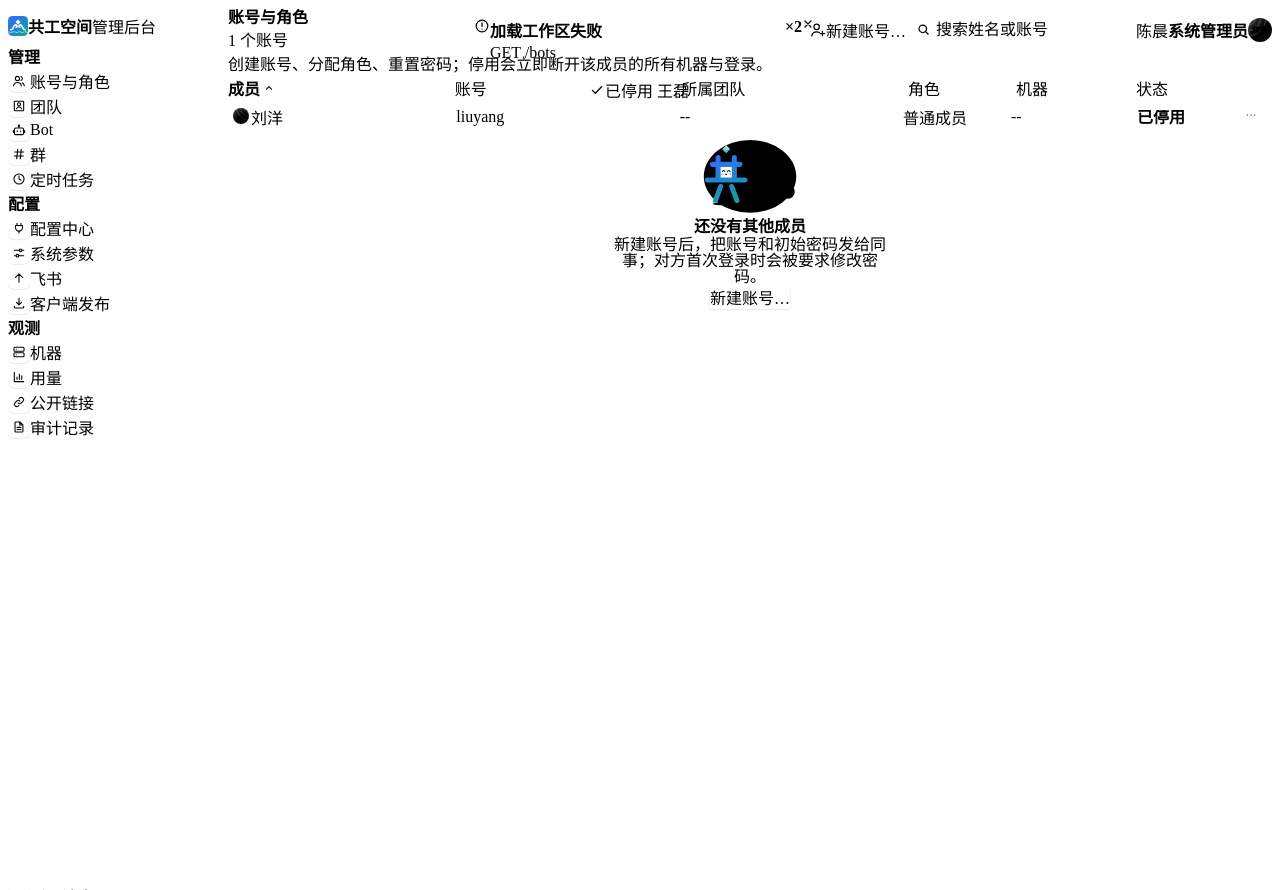
Test: 账号与角色 · 停用 / 启用 › closing the dialog changes nothing; 启用 re-enables at once
This screenshot has width=1280, height=890.
expect the cell "liuyang" is shown: met, box [456,108,504,125]
Click the button named "操作": (1251, 115) [1244,108,1258,122]
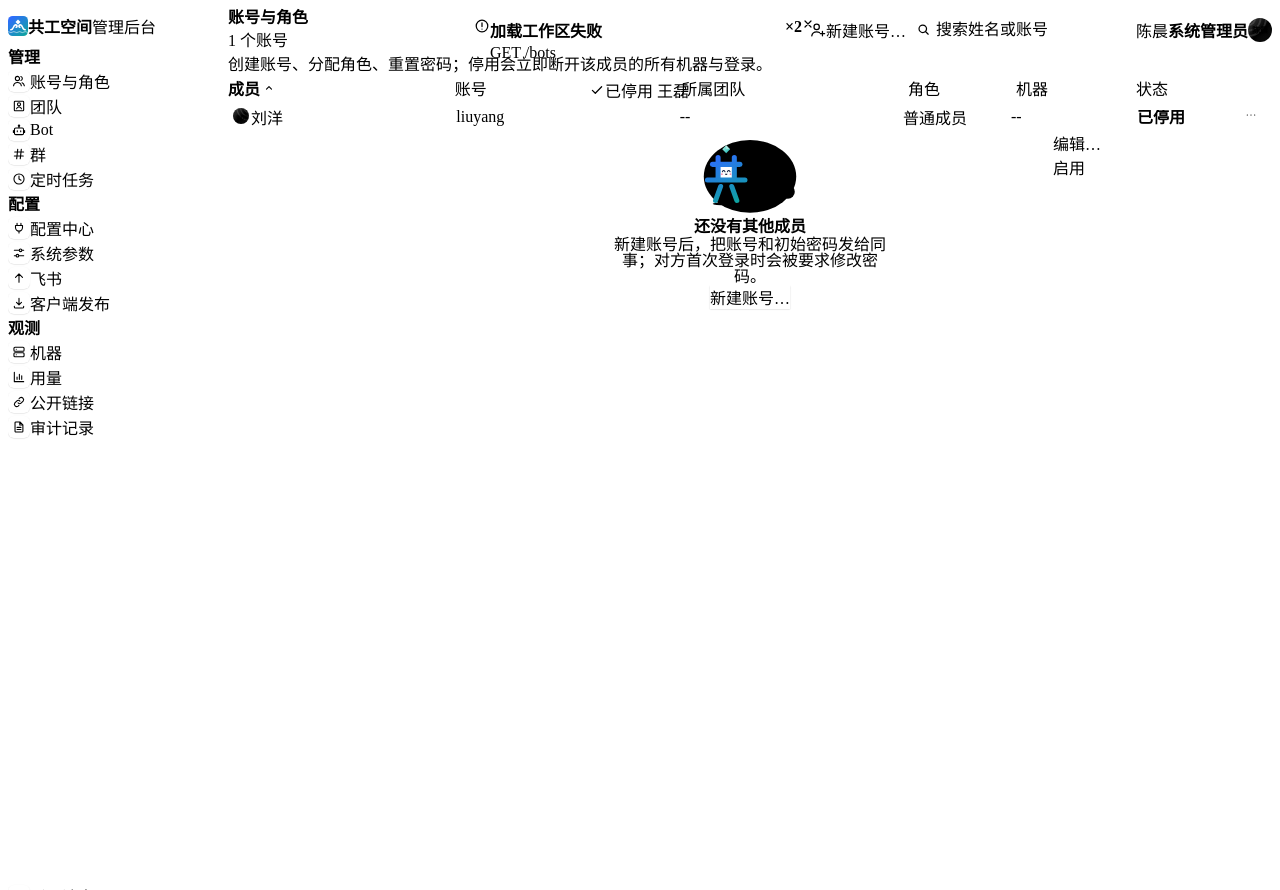
Click the menu item "启用": (1153, 167) [1053,155,1253,179]
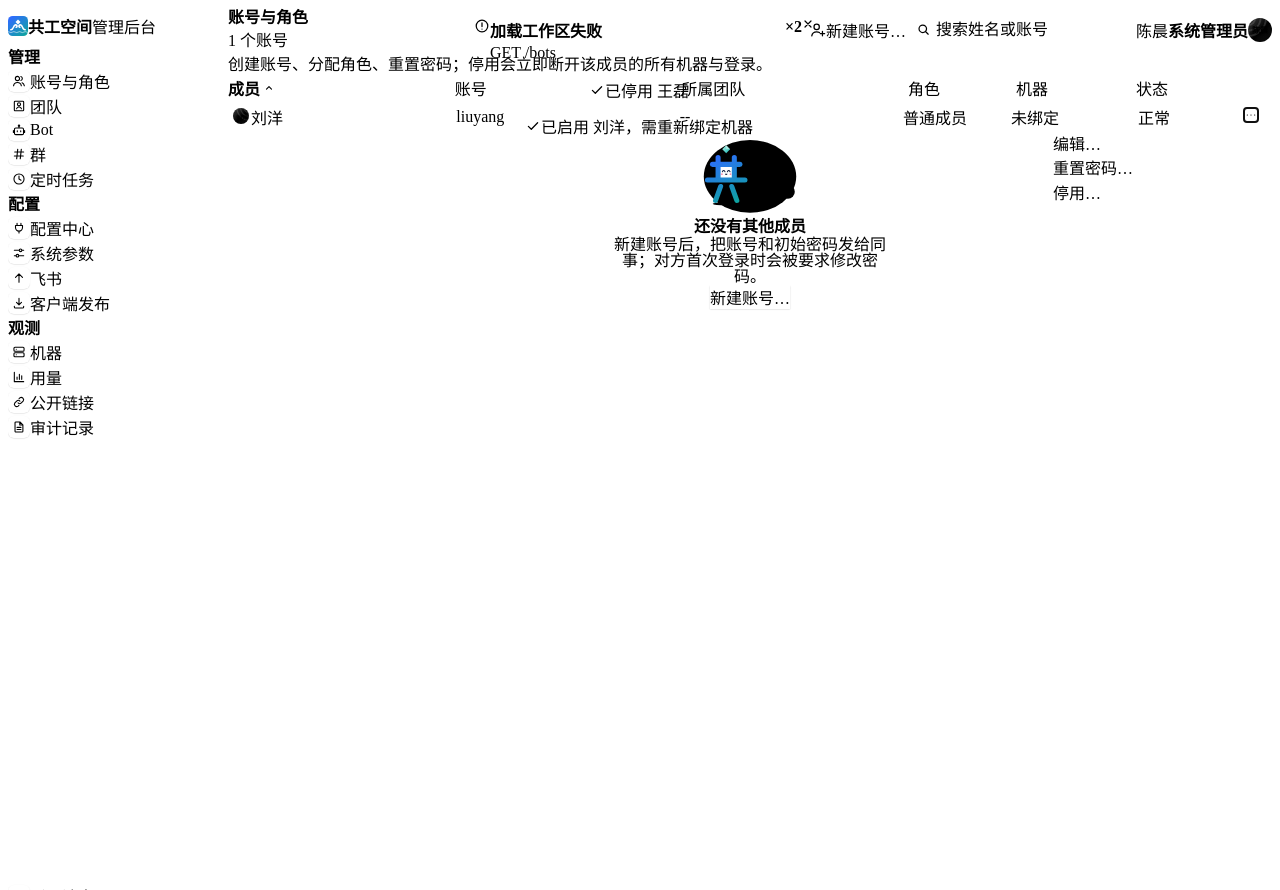
Click the button named "操作": (1251, 115) [1244,108,1258,122]
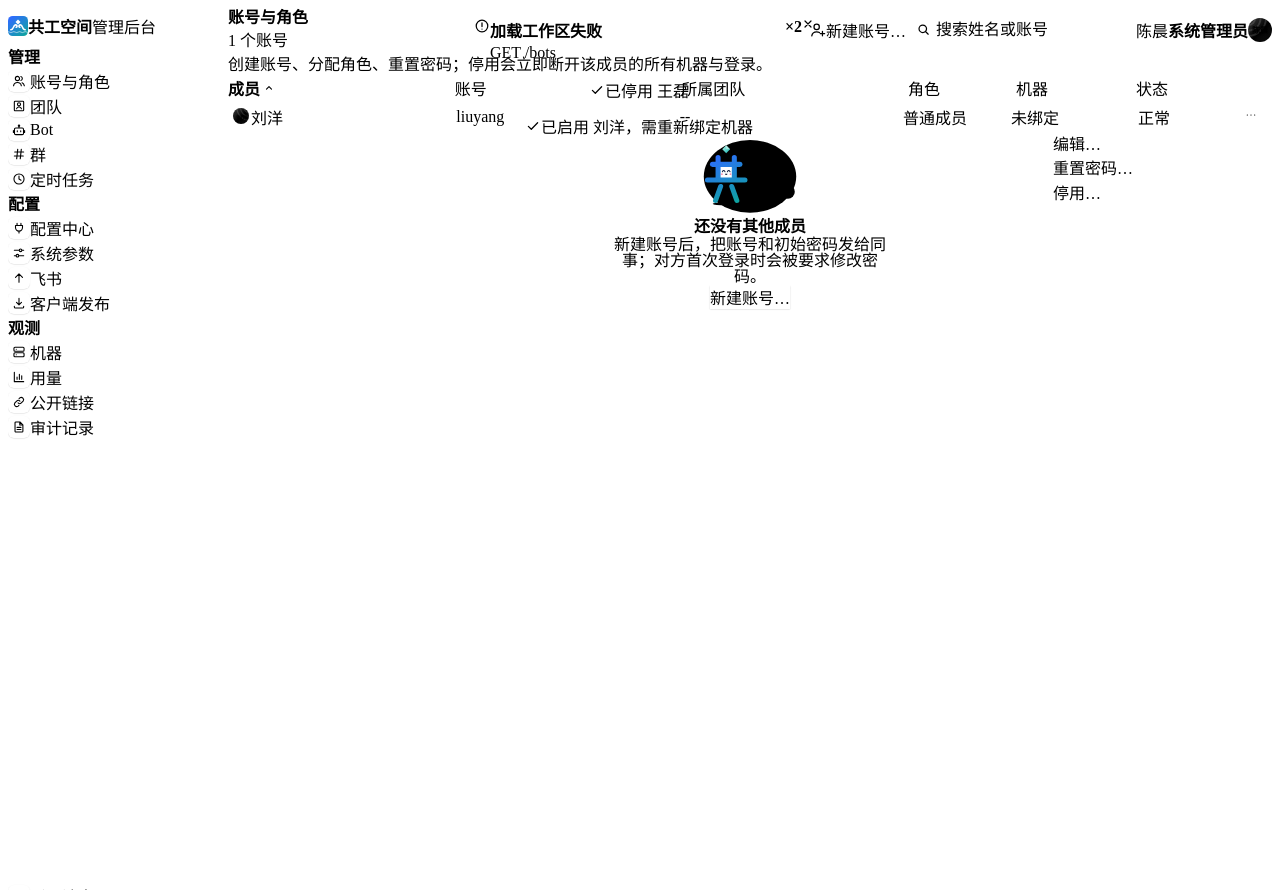
Click the menu item "停用…": (1153, 192) [1053,180,1253,204]
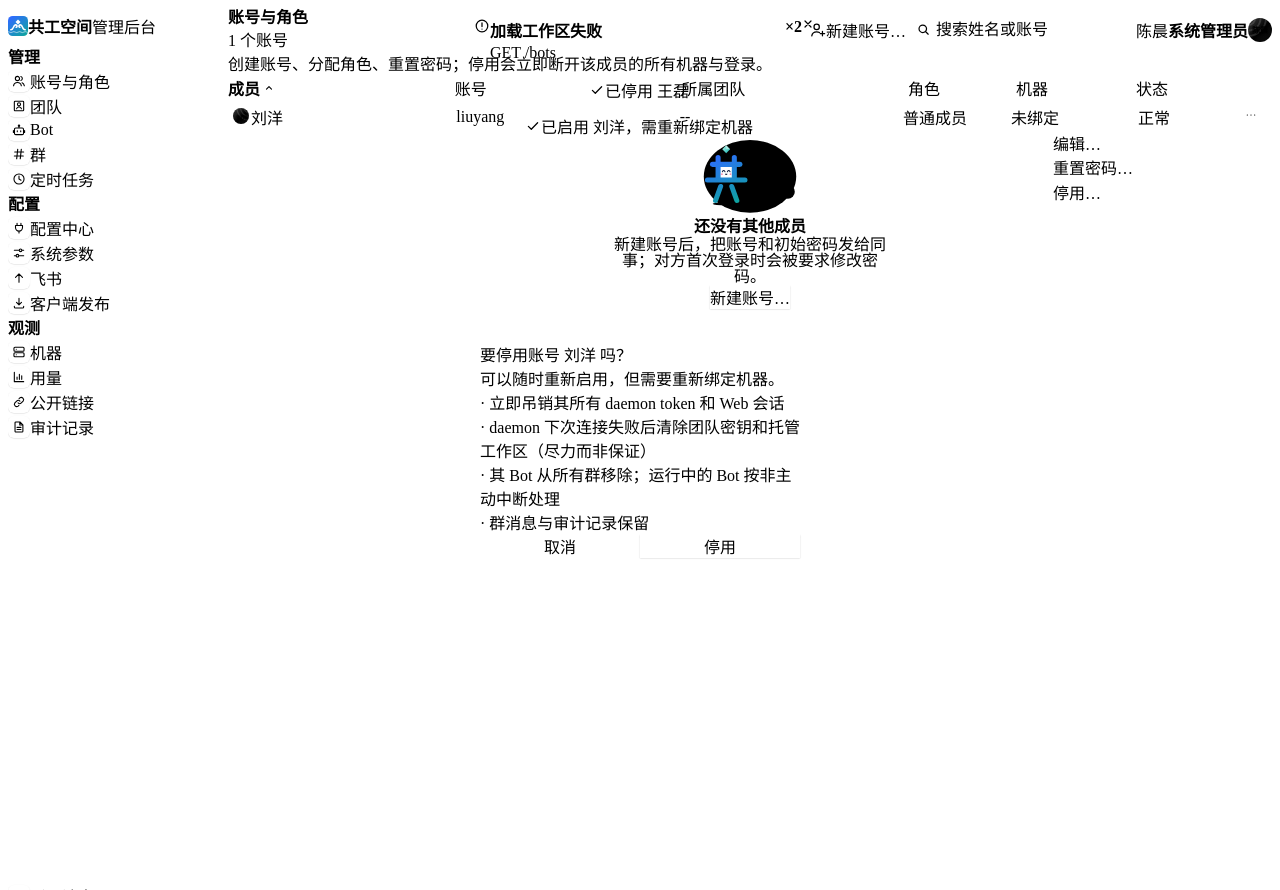
Click the button "取消": (560, 546) [480,534,640,558]
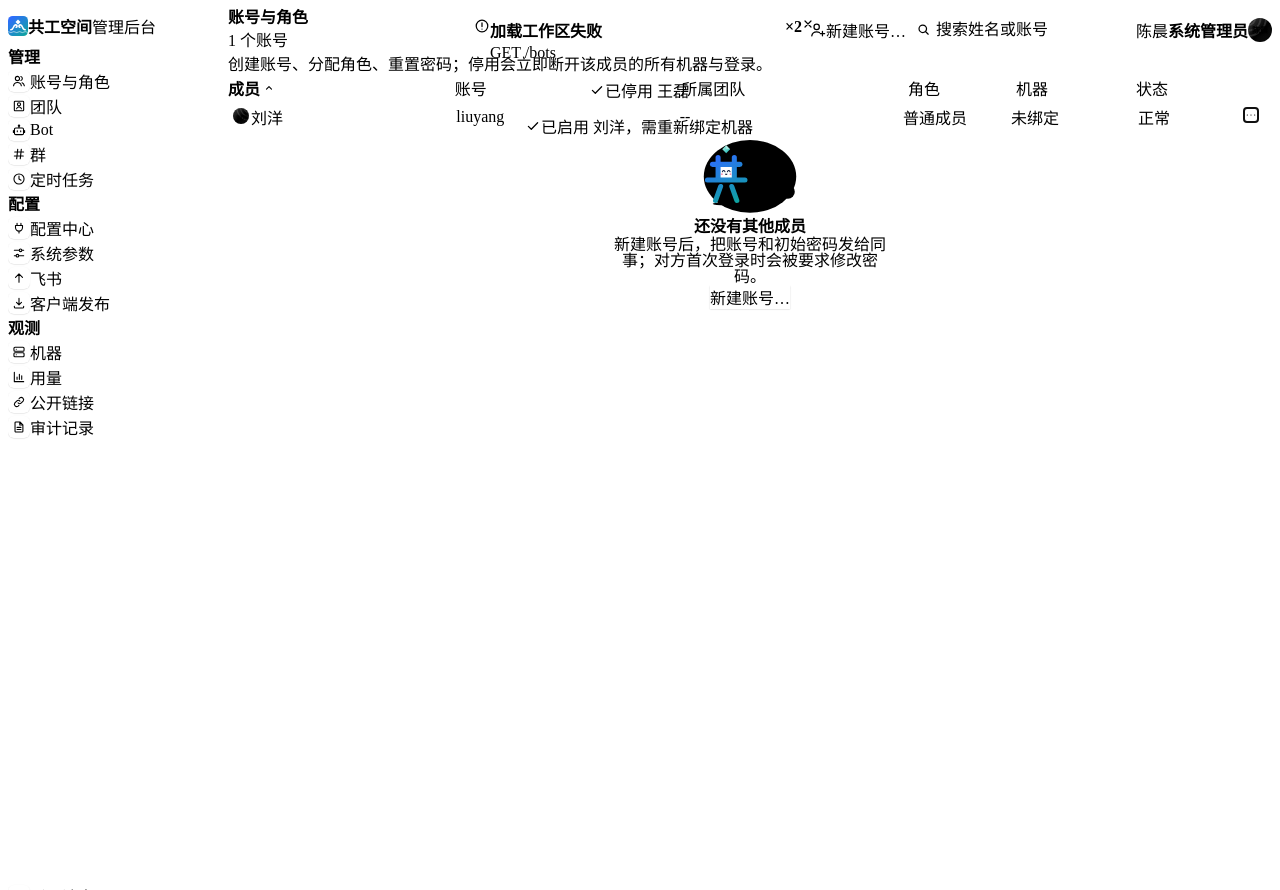
expect the dialog is gone: met
